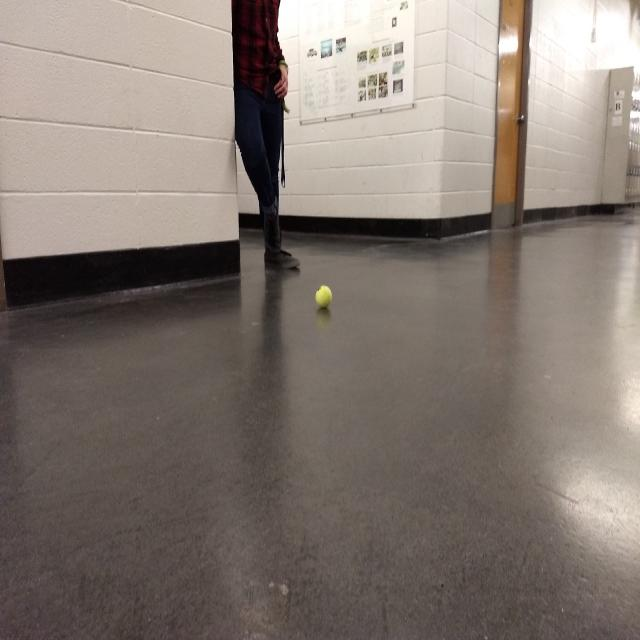tennis-ball: (315, 286, 333, 308)
